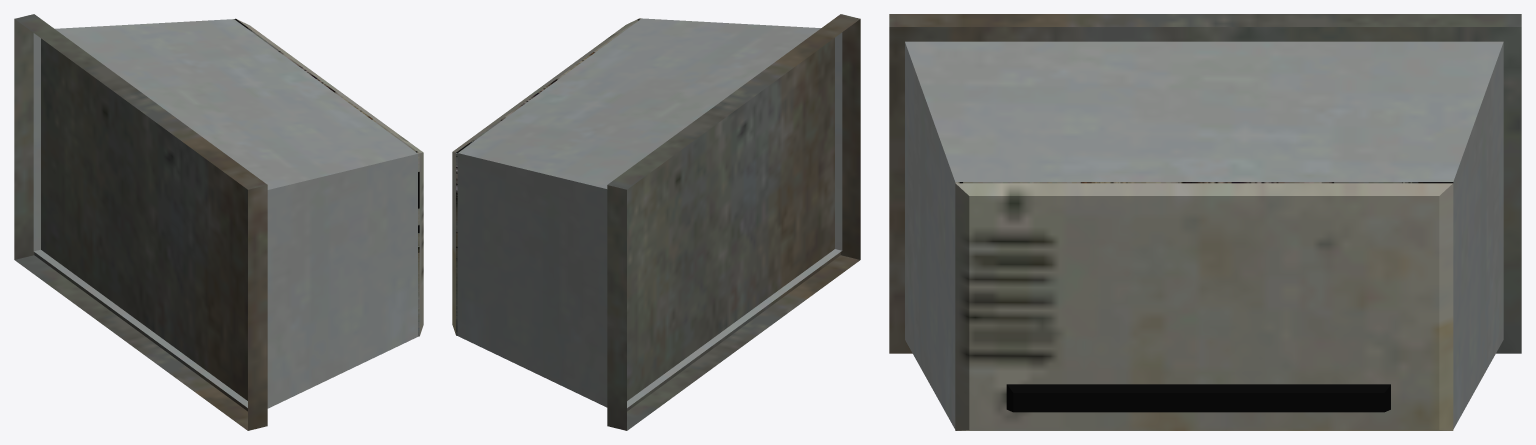
The model's file is powerbox03a.glb.
3 views of the same model, side by side, from view 1: azimuth 30°, elevation 25°; view 2: azimuth 150°, elevation 25°; view 3: azimuth 270°, elevation 25° (orthographic). The views are drawn at different scales.
Parts seen in each view (by area): view 1: powerbox03a; view 2: powerbox03a; view 3: powerbox03a.
Boxes of the visible parts, <box> form: powerbox03a: <box>14,14,423,430</box>; powerbox03a: <box>452,14,860,430</box>; powerbox03a: <box>889,14,1521,430</box>.
Bounding box in the file's own units: 0.0947 × 0.102 × 0.1791.
1 material, 1 textured.
